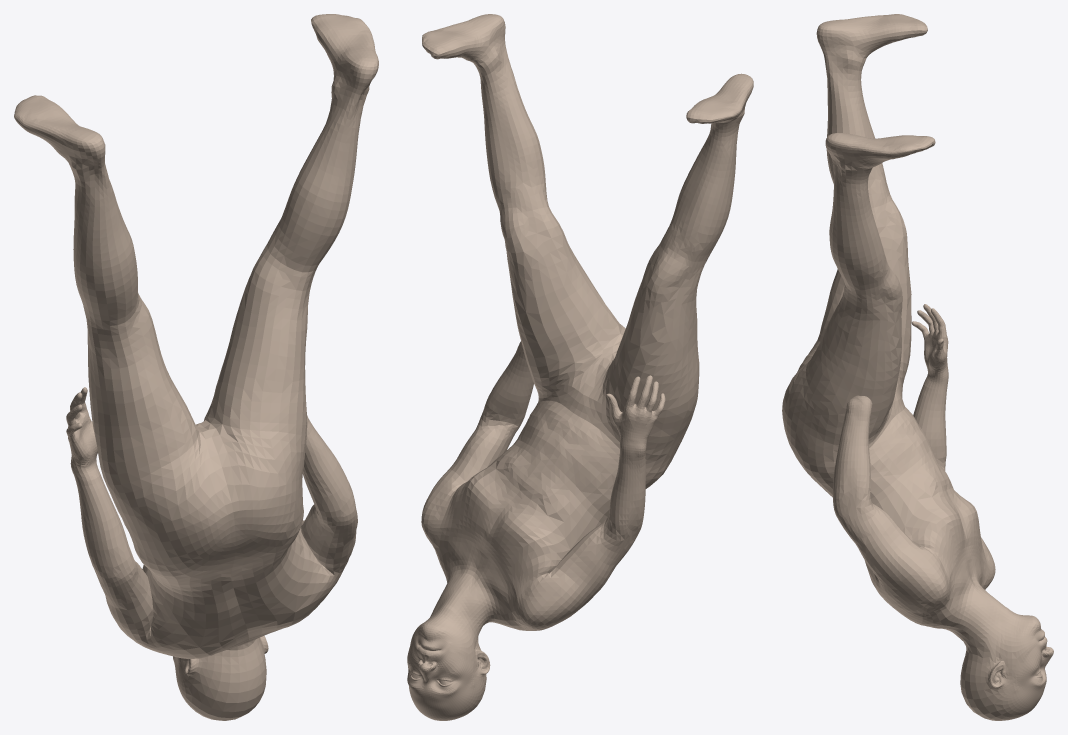
Rendered from avatar_child.glb.
The picture shows the model from 3 angles, left to right: view 1: azimuth 30°, elevation 25°; view 2: azimuth 150°, elevation 25°; view 3: azimuth 270°, elevation 25°; orthographic projection. The views are drawn at different scales.
Parts seen in each view (by area): view 1: world; view 2: world; view 3: world.
Boxes of the visible parts, <box> form: world: <box>14,14,378,720</box>; world: <box>407,14,753,720</box>; world: <box>782,14,1053,720</box>.
Bounding box in the file's own units: 0.7516 × 1.47 × 0.5999.
